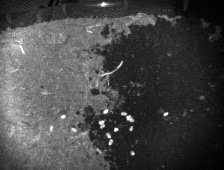corn: (69, 125, 79, 134), (127, 123, 136, 133), (47, 122, 55, 133), (123, 113, 132, 121), (119, 110, 129, 117), (111, 126, 121, 133), (129, 149, 137, 157), (162, 110, 170, 118), (102, 107, 110, 115), (107, 137, 114, 146), (97, 118, 106, 125), (104, 130, 112, 137), (59, 113, 67, 120), (128, 116, 135, 123), (99, 123, 106, 129)
